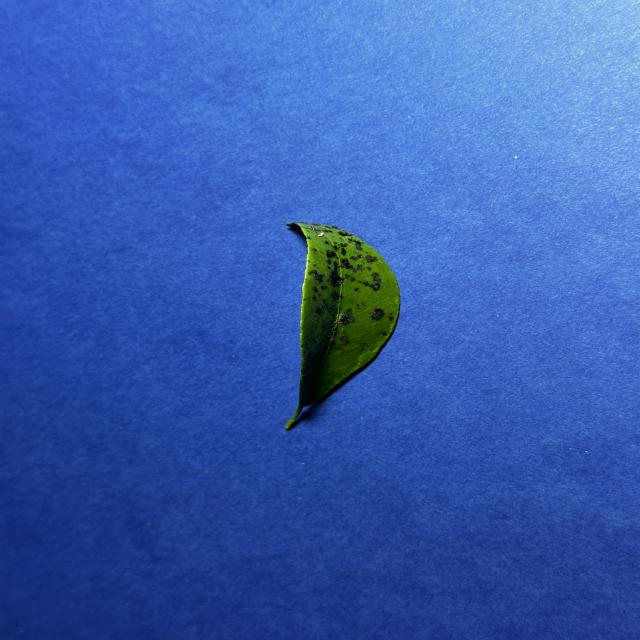sooty_mold: (286, 222, 400, 429)
